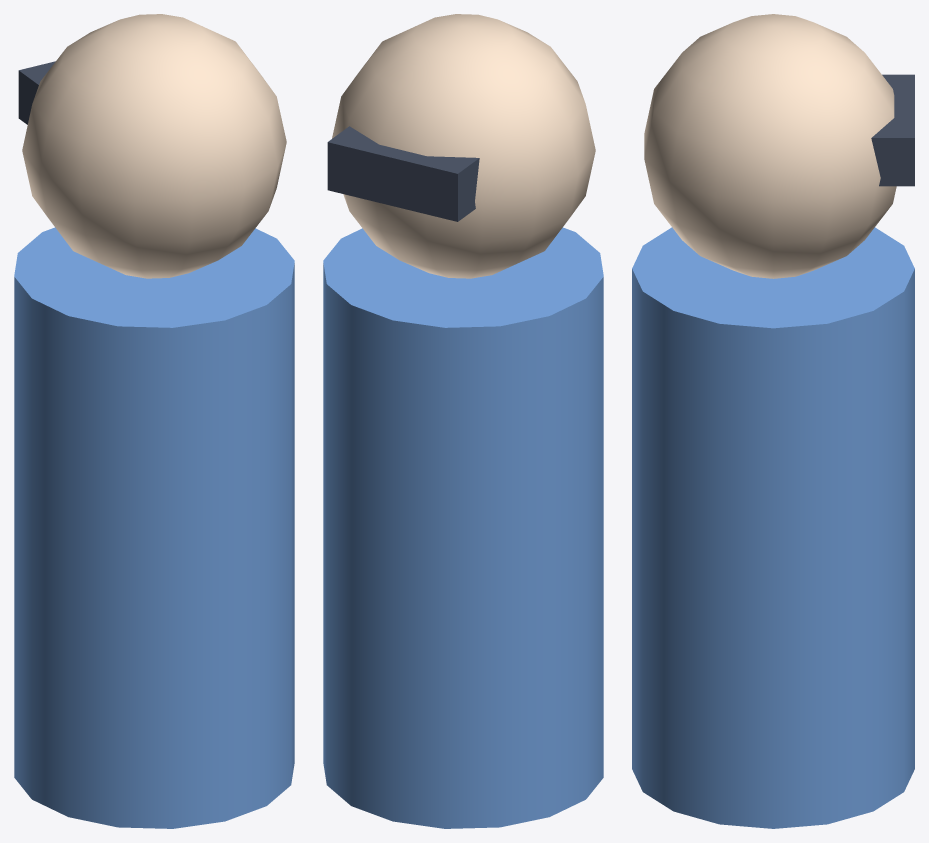
The model's file is player.gltf.
3 renders of one model, left to right at view 1: azimuth 30°, elevation 25°; view 2: azimuth 150°, elevation 25°; view 3: azimuth 270°, elevation 25°, orthographic.
Parts seen in each view (by area): view 1: player_0, player_1, player_2; view 2: player_0, player_1, player_2; view 3: player_0, player_1, player_2.
Part boxes in pixels (box(x1,y1,x2,y2)): player_0: box(14, 227, 294, 828); player_1: box(22, 14, 286, 278); player_2: box(18, 61, 55, 124); player_0: box(323, 227, 603, 828); player_1: box(332, 14, 595, 278); player_2: box(327, 126, 479, 221); player_0: box(632, 227, 914, 828); player_1: box(644, 14, 896, 278); player_2: box(871, 74, 914, 186).
Size of the model in its own units: 0.64 by 1.85 by 0.64.
